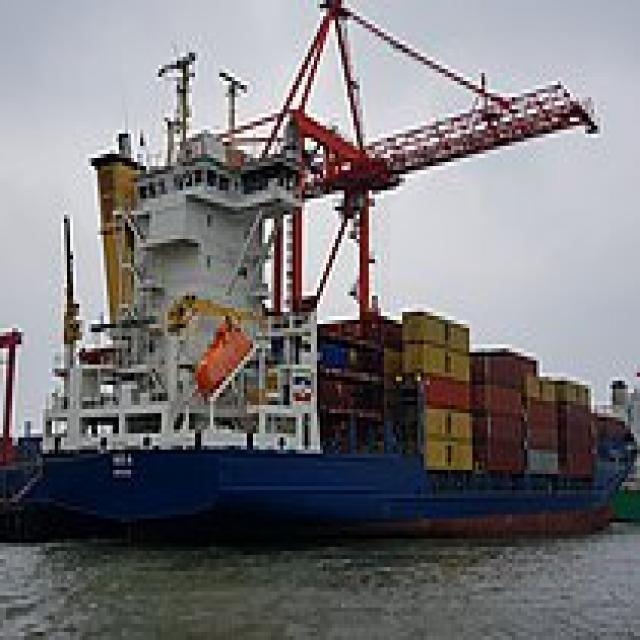Ship: (1, 86, 635, 556)
